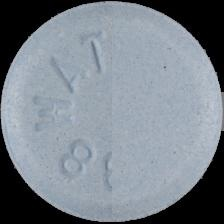0591-0861: (0, 0, 224, 224)
